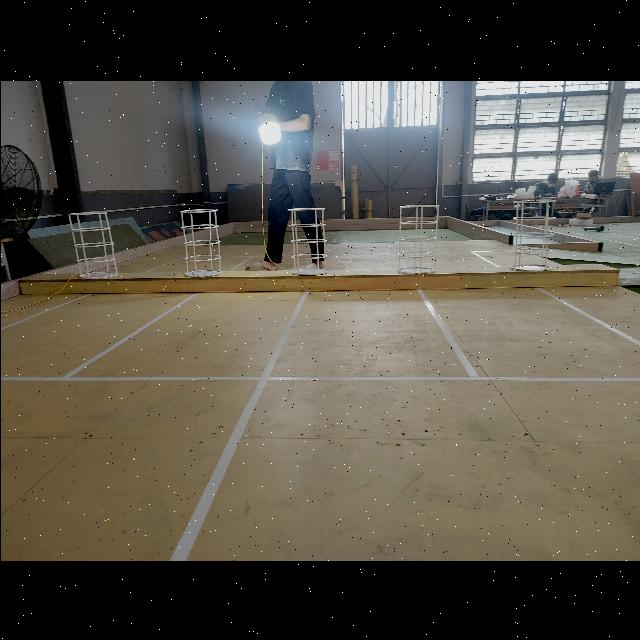S: (68, 208, 119, 280), (511, 197, 555, 271), (180, 205, 222, 281), (288, 203, 329, 277), (398, 203, 439, 274)
